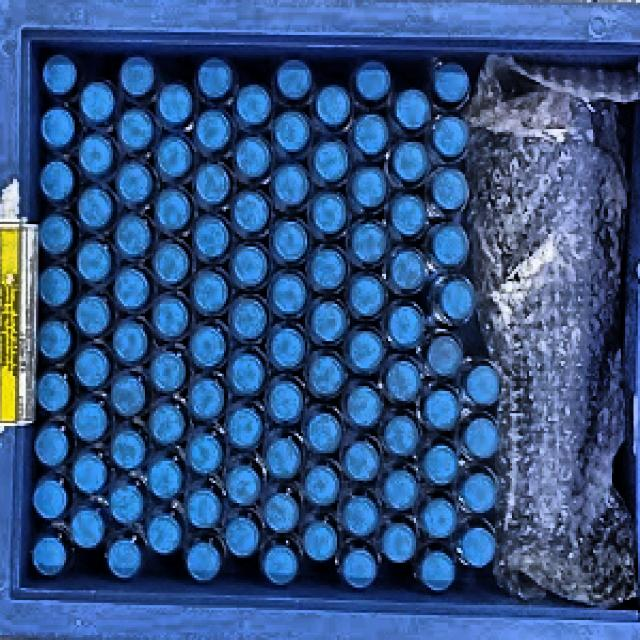vial: (428, 223, 469, 268), (384, 357, 421, 403), (430, 168, 469, 211), (34, 422, 70, 467), (422, 388, 460, 430), (432, 115, 468, 159), (391, 142, 428, 184), (388, 305, 425, 347), (32, 477, 69, 519), (341, 547, 378, 589), (422, 444, 459, 486), (272, 220, 308, 263), (72, 452, 108, 495), (391, 194, 426, 238), (439, 277, 474, 321), (465, 363, 500, 407), (231, 298, 268, 339), (262, 544, 299, 585), (342, 495, 379, 536), (42, 54, 78, 96), (74, 346, 110, 388), (390, 250, 426, 292), (419, 550, 455, 592), (460, 471, 496, 513), (462, 416, 498, 458), (196, 109, 231, 152), (266, 436, 301, 479), (306, 411, 341, 454), (384, 414, 419, 457), (31, 536, 68, 576), (421, 498, 458, 538), (72, 400, 108, 441), (112, 321, 148, 362), (434, 63, 470, 104), (106, 538, 142, 579), (185, 541, 221, 582), (80, 82, 115, 124), (79, 134, 114, 176), (76, 241, 111, 283), (191, 325, 226, 367), (311, 248, 346, 290), (351, 222, 386, 264), (150, 403, 185, 445), (226, 464, 261, 506), (355, 61, 391, 101), (426, 336, 462, 376), (146, 514, 182, 554), (75, 295, 110, 336), (119, 109, 154, 150), (116, 216, 151, 257), (115, 268, 150, 309), (111, 375, 146, 416), (194, 271, 229, 312), (190, 378, 225, 419), (234, 191, 269, 232), (230, 353, 265, 394), (276, 60, 311, 101), (275, 111, 310, 152), (274, 165, 309, 206), (269, 381, 304, 422), (315, 86, 350, 127), (354, 114, 389, 155), (350, 276, 385, 317), (349, 330, 384, 371), (395, 89, 430, 130), (70, 508, 105, 549), (111, 429, 146, 470), (186, 487, 221, 528), (264, 492, 299, 533), (305, 465, 340, 506), (381, 522, 416, 563), (460, 527, 495, 568), (76, 241, 111, 282), (41, 107, 75, 149), (158, 83, 192, 125), (195, 216, 229, 258), (312, 193, 346, 235), (110, 482, 144, 524), (232, 247, 268, 286), (236, 85, 271, 125), (314, 142, 349, 182), (311, 301, 346, 341), (309, 355, 344, 395), (225, 517, 260, 557), (384, 470, 419, 510), (40, 214, 74, 255), (78, 188, 112, 229), (120, 57, 154, 98), (118, 162, 152, 203), (155, 244, 189, 285), (198, 58, 232, 99), (196, 163, 230, 204), (236, 137, 270, 178), (272, 273, 306, 314), (271, 327, 305, 368), (352, 168, 386, 209), (228, 407, 262, 448), (345, 441, 379, 482), (158, 136, 191, 178), (348, 385, 381, 427), (154, 298, 189, 337), (151, 352, 186, 391), (40, 161, 74, 201), (156, 190, 190, 230), (188, 433, 222, 473), (304, 521, 338, 561), (149, 458, 182, 499), (39, 320, 72, 360), (38, 371, 71, 411), (40, 266, 72, 306)
